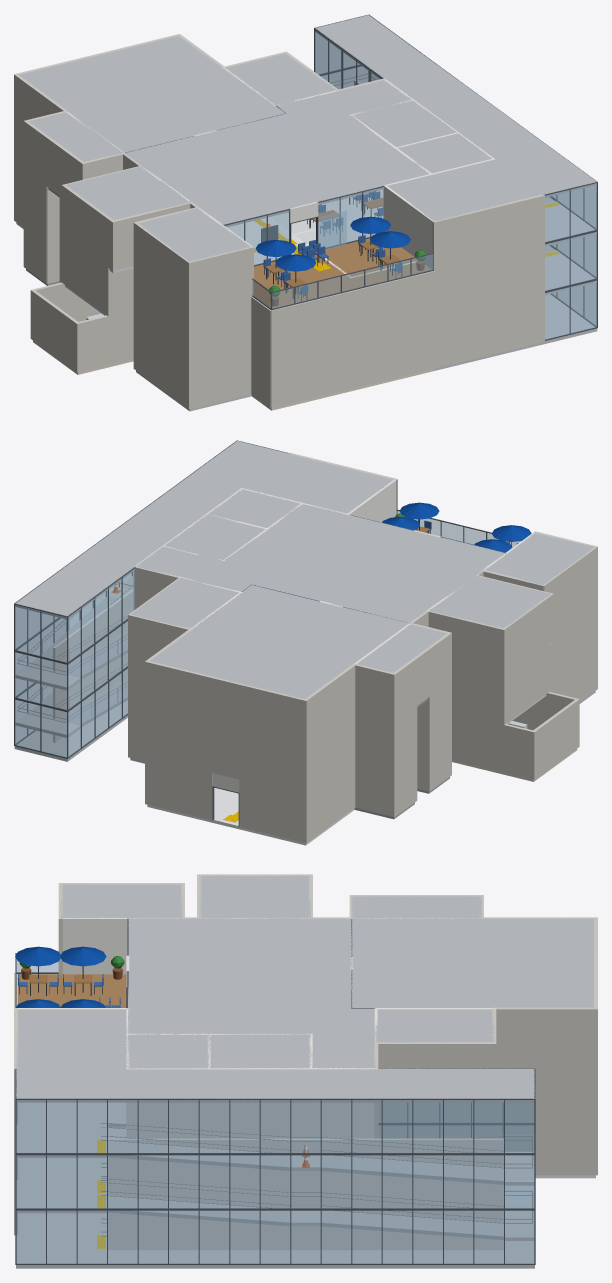
Rendered from predio-teste.glb.
The picture shows the model from 3 angles, top to bottom: view 1: azimuth 30°, elevation 25°; view 2: azimuth 150°, elevation 25°; view 3: azimuth 270°, elevation 25°; orthographic projection. The views are drawn at different scales.
Visible parts, largest first — view 1: PCTP03COBERTURA_GERAL, PCTP03PAREDE_GERAL, PCTP01PAREDE_GERAL, PCTP02PAREDE_GERAL, PCTP03PISO_LAJE, PCTP03MOBILIA_GERAL, PCTP01PISO_LAJE, PCTP03PORTA_GERAL, PCTP02PISO_LAJE; view 2: PCTP03COBERTURA_GERAL, PCTP03PAREDE_GERAL, PCTP01PAREDE_GERAL, PCTP02PAREDE_GERAL, PCTP02RAMPA_1, PCTP01RAMPA_1, PCTP01PISO_LAJE, PCTP03MOBILIA_GERAL, PCTP01PORTA_GERAL; view 3: PCTP03COBERTURA_GERAL, PCTP03PAREDE_GERAL, PCTP02PAREDE_GERAL, PCTP01PAREDE_GERAL, PCTP01RAMPA_1, PCTP02RAMPA_1, PCTP01PISO_LAJE, PCTP03PISO_LAJE, PCTP02PISO_LAJE, PCTP03MOBILIA_GERAL.
Part boxes in pixels (x1,y1,x2,y2): PCTP03COBERTURA_GERAL: (19,15,596,261); PCTP03PAREDE_GERAL: (14,14,597,311); PCTP01PAREDE_GERAL: (14,172,597,408); PCTP02PAREDE_GERAL: (14,65,597,360); PCTP03PISO_LAJE: (48,188,596,308); PCTP03MOBILIA_GERAL: (255,191,426,306); PCTP01PISO_LAJE: (16,222,597,411); PCTP03PORTA_GERAL: (159,97,417,254); PCTP02PISO_LAJE: (65,250,596,315); PCTP03COBERTURA_GERAL: (15,441,594,699); PCTP03PAREDE_GERAL: (14,440,597,748); PCTP01PAREDE_GERAL: (14,642,597,843); PCTP02PAREDE_GERAL: (14,572,597,795); PCTP02RAMPA_1: (15,575,133,695); PCTP01RAMPA_1: (15,653,127,742); PCTP01PISO_LAJE: (14,691,595,845); PCTP03MOBILIA_GERAL: (382,502,531,552); PCTP01PORTA_GERAL: (212,773,239,826); PCTP03COBERTURA_GERAL: (16,875,595,1102); PCTP03PAREDE_GERAL: (14,874,597,1154); PCTP02PAREDE_GERAL: (14,972,597,1209); PCTP01PAREDE_GERAL: (14,1120,597,1264); PCTP01RAMPA_1: (101,1178,534,1250); PCTP02RAMPA_1: (101,1123,534,1194); PCTP01PISO_LAJE: (16,1175,595,1268); PCTP03PISO_LAJE: (16,974,126,1157); PCTP02PISO_LAJE: (16,1127,126,1213); PCTP03MOBILIA_GERAL: (15,946,124,1007).
Bounding box in the file's own units: 28.13 × 9.2 × 28.7.
